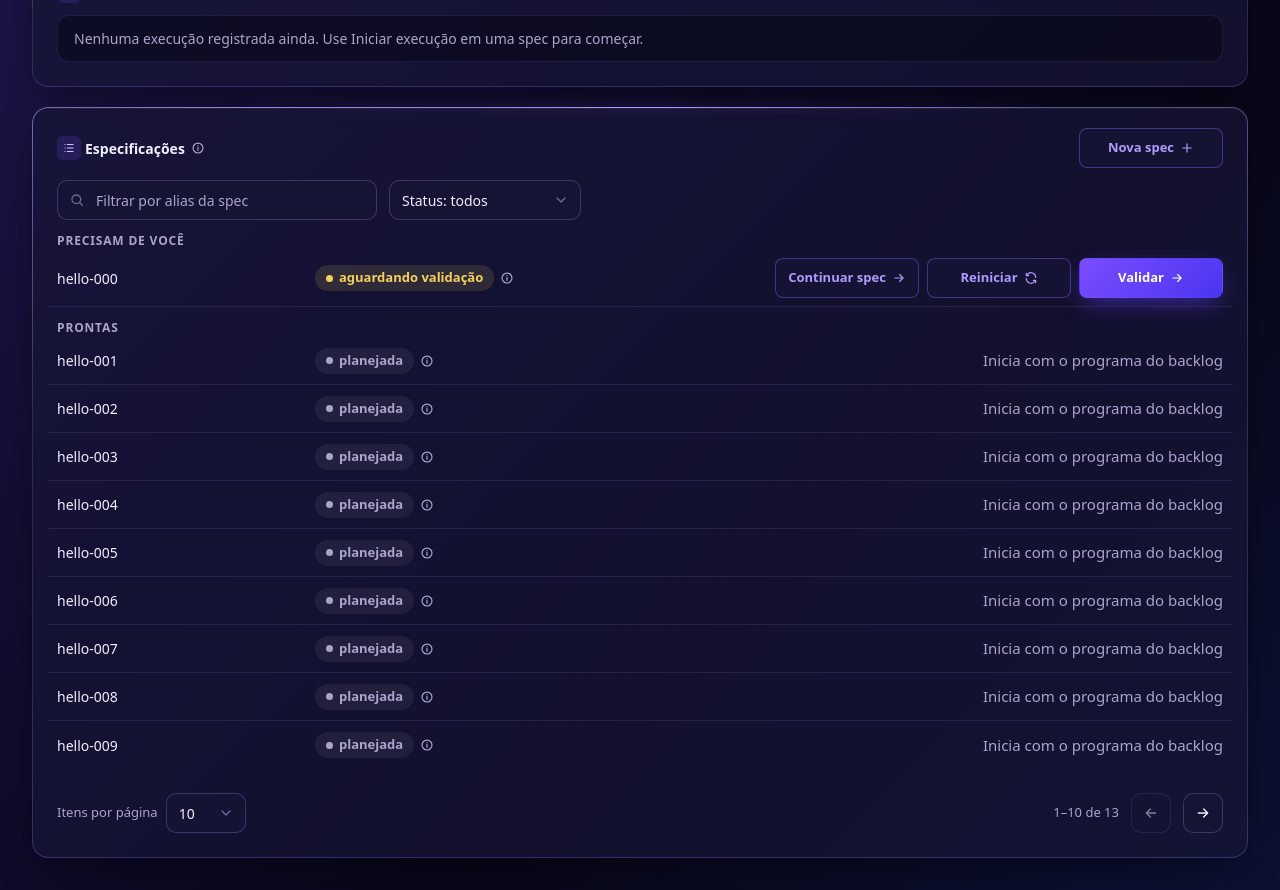
Scenario: ProjectHubView › pages the specs ten at a time, and each page shows the group headings of its own rows
This screenshot has width=1280, height=890.
(page scrolled)
Expected: the text "1–10 de 13" is shown, top-left (1053, 803), bottom-right (1119, 823)
What coordinates should you click on to do the following:
click the button named "Próxima página"
I would click on:
 (1203, 813)
Its box is top-left (1183, 793), bottom-right (1223, 833).
(page scrolled)
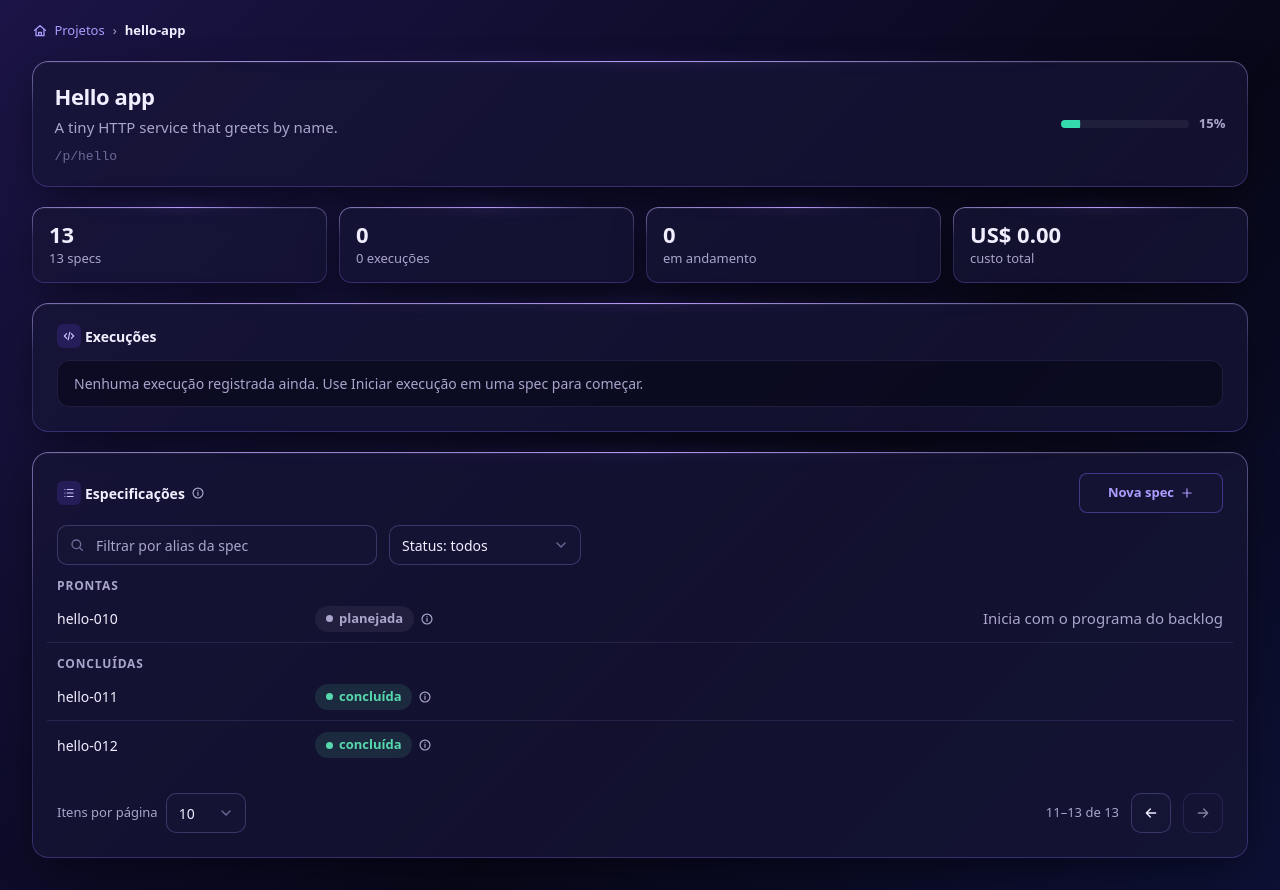
Now the text "11–13 de 13" is shown, box top-left (1046, 803), bottom-right (1119, 823)
